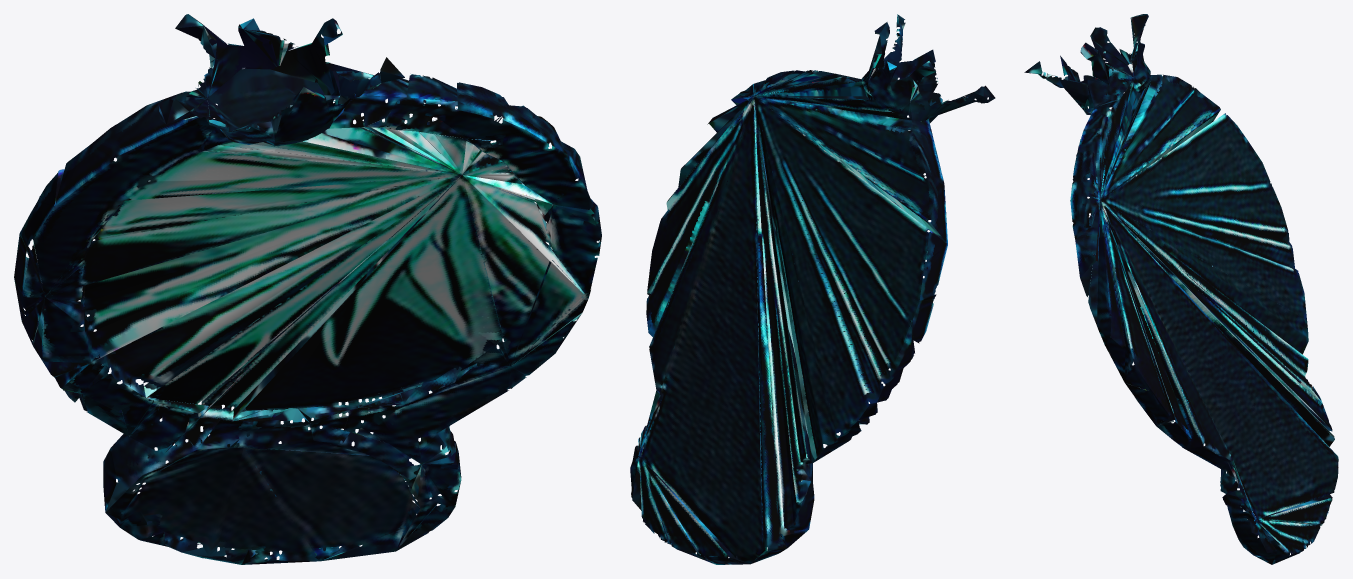
Rendered from BribeCoin.glb.
3 renders of one model, left to right at view 1: azimuth 30°, elevation 25°; view 2: azimuth 150°, elevation 25°; view 3: azimuth 270°, elevation 25°, orthographic. The views are drawn at different scales.
Visible parts, largest first — view 1: temp_mesh.ply; view 2: temp_mesh.ply; view 3: temp_mesh.ply.
Boxes of the visible parts, left/top/right/bottom form: temp_mesh.ply: left=14, top=14, right=601, bottom=564; temp_mesh.ply: left=630, top=14, right=995, bottom=564; temp_mesh.ply: left=1024, top=14, right=1338, bottom=564.
Size of the model in its own units: 0.0292 by 0.04 by 0.0247.
Materials: 1 (1 with a texture image).
